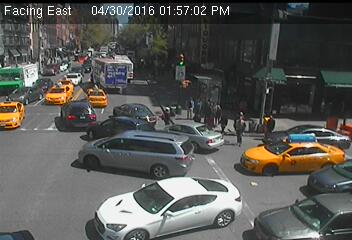neg: (36, 70, 58, 100), (237, 34, 259, 63), (181, 41, 198, 64), (82, 89, 97, 108), (121, 71, 136, 90), (156, 54, 170, 72)
pos: (228, 112, 254, 146), (261, 112, 283, 140), (214, 109, 235, 136), (180, 94, 198, 117), (157, 107, 173, 129)
